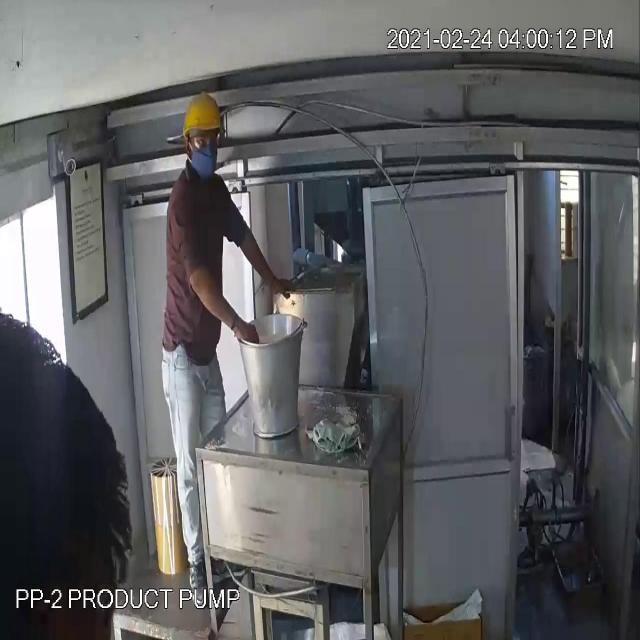hat: (180, 88, 230, 148)
